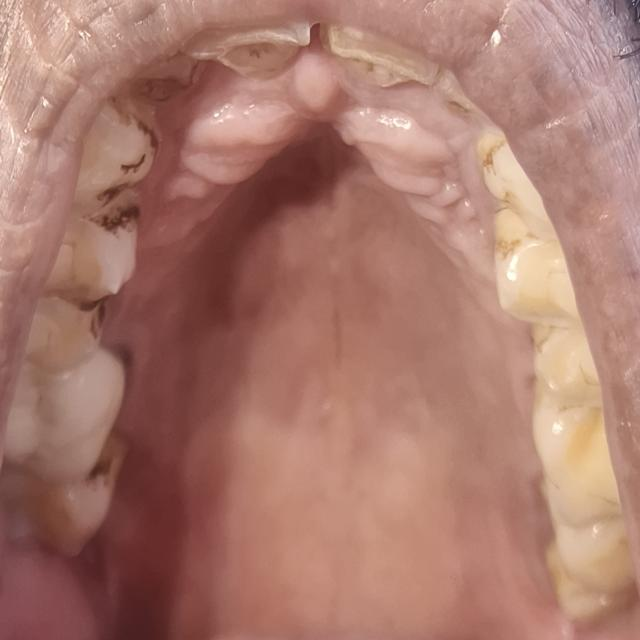processing_area: (84, 59, 579, 639)
